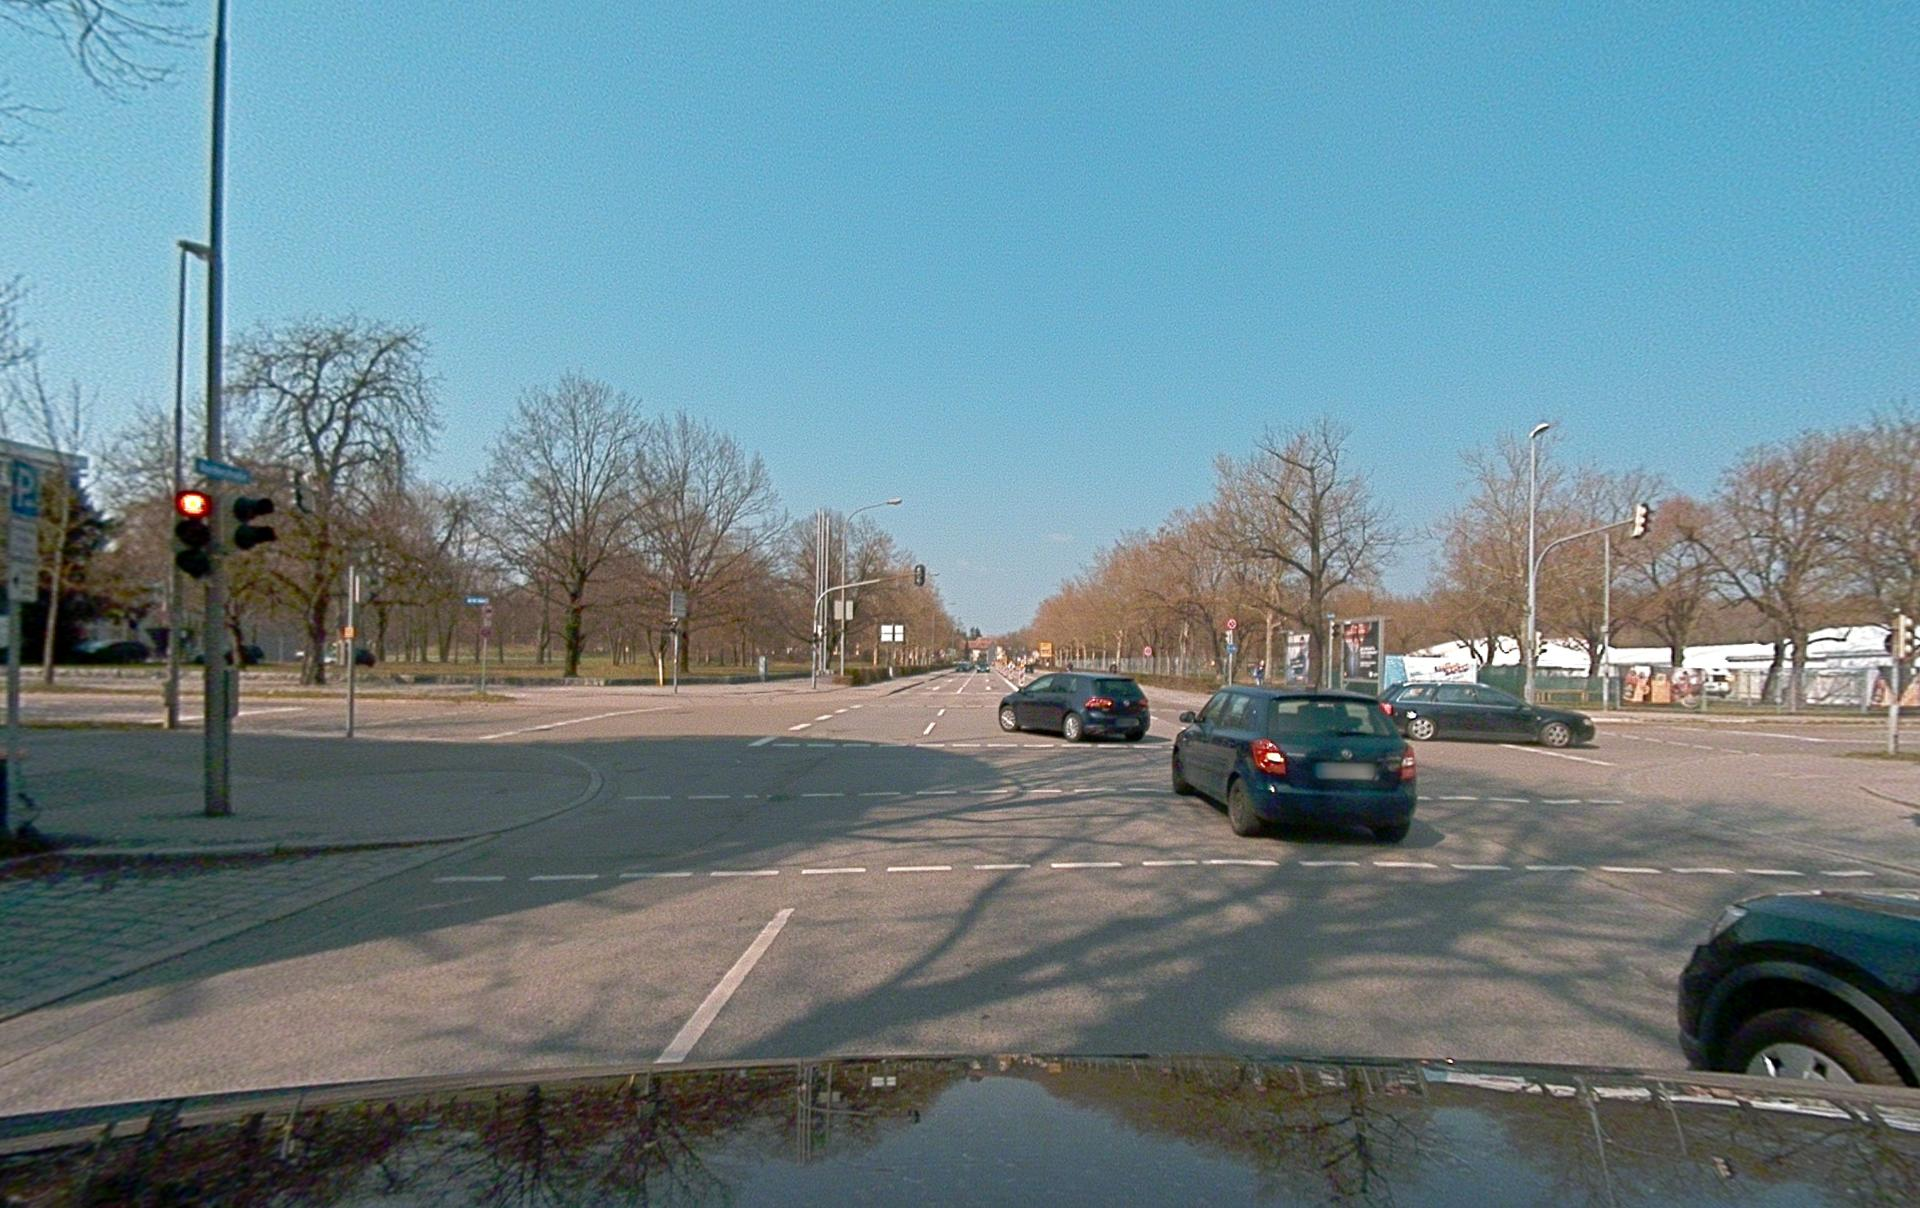car: (1677, 889, 1920, 1090), (1171, 685, 1418, 842), (1377, 681, 1596, 747), (998, 671, 1149, 742)
traffic sign: (195, 456, 252, 484)
